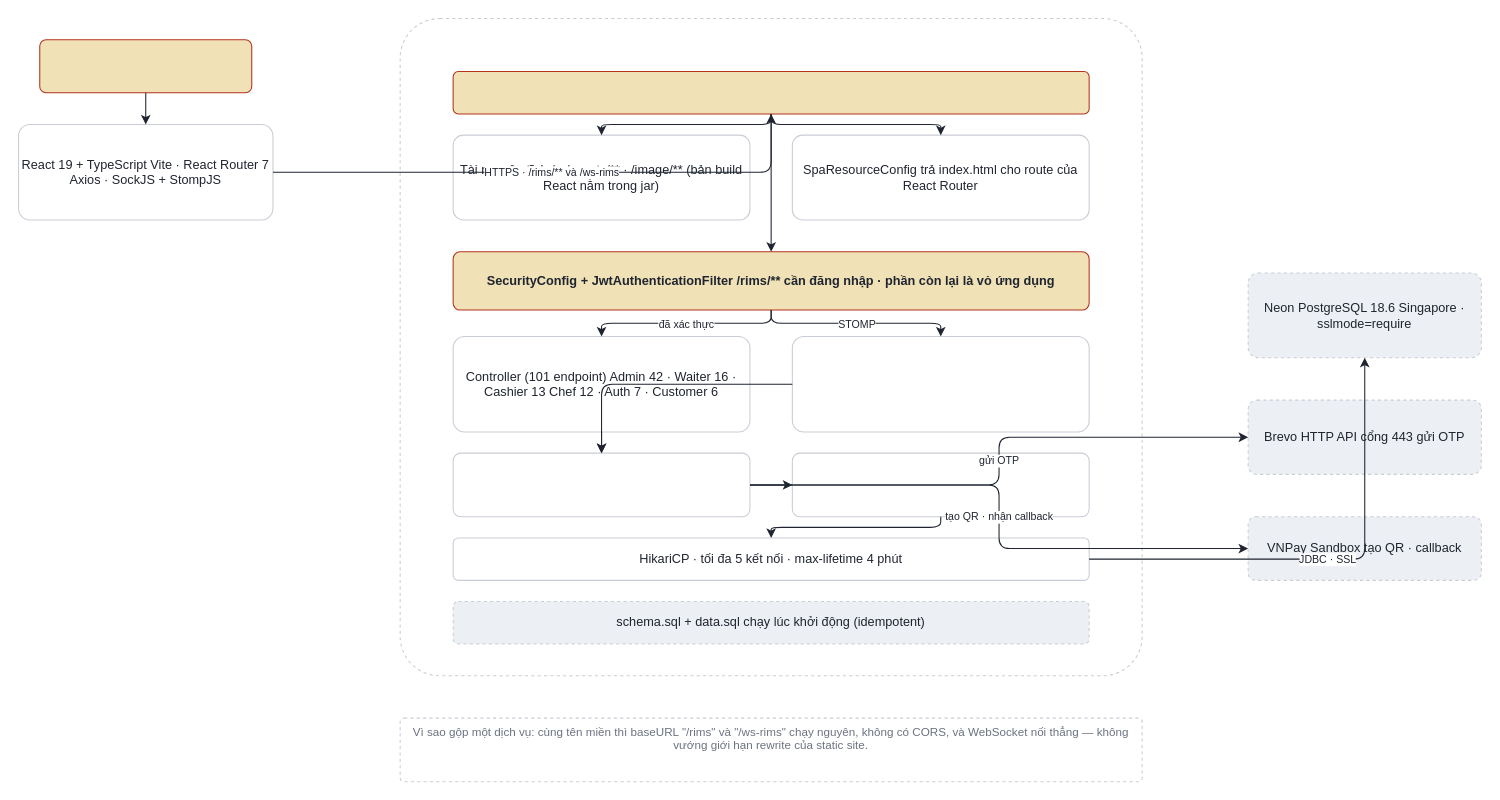
The diagram is 1500 pixels wide and 800 high, and some of its shapes have lost their labels. The box of each missing label's shape, as (x1, y1, x2, y2) in pixels:
Render — 1 Web Service (Docker, Singapore, 512 MB): (399, 17, 1142, 676)
Service — nghiệp vụ 5 tác vụ @Scheduled: (452, 452, 750, 517)
Spring Boot 4 (Java 21): (452, 70, 1089, 114)
Spring Data JPA + Hibernate ddl-auto = validate: (791, 452, 1089, 517)
Trình duyệt: (39, 39, 252, 93)
WebSocket STOMP /ws-rims topic theo vai: (791, 335, 1089, 432)
